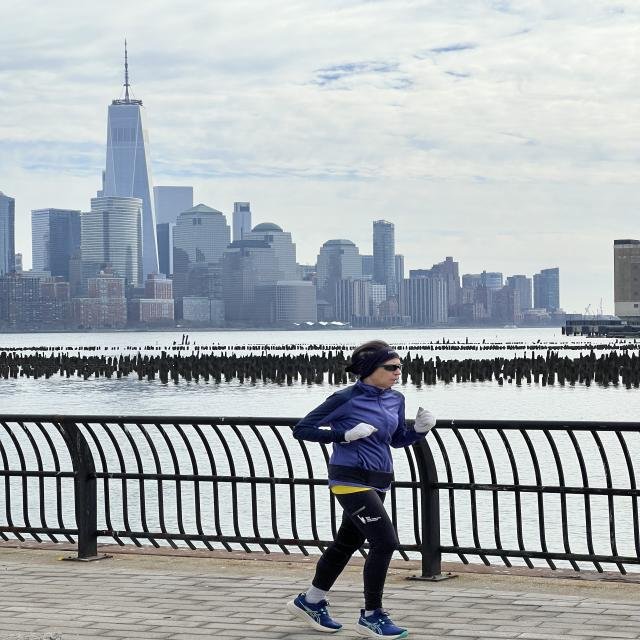WTC: (105, 41, 152, 199)
